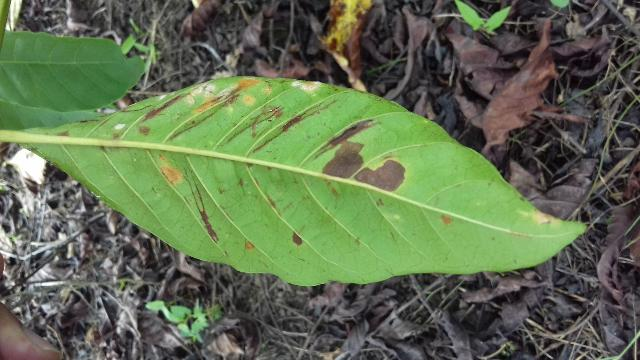rust_level_1: (0, 71, 598, 287)
